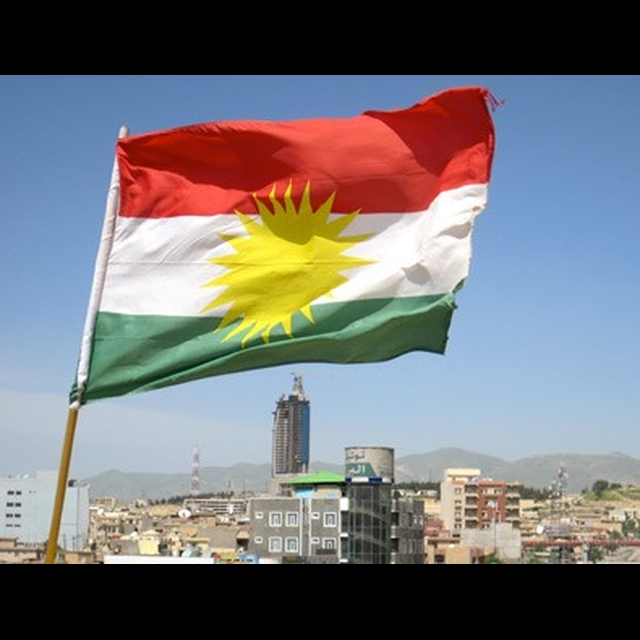IBKY: (138, 137, 426, 349)
